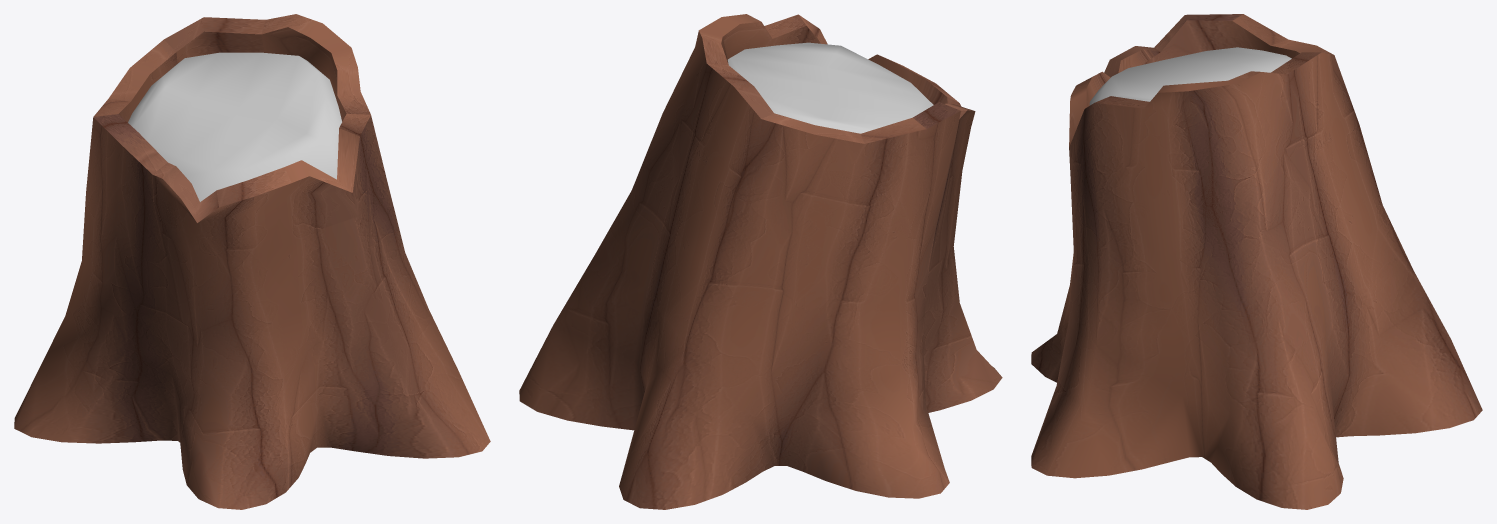
The model's file is Tree_Bark_2.gltf.
The picture shows the model from 3 angles, left to right: view 1: azimuth 30°, elevation 25°; view 2: azimuth 150°, elevation 25°; view 3: azimuth 270°, elevation 25°; orthographic projection. The views are drawn at different scales.
Parts seen in each view (by area): view 1: Tree_Bark_2; view 2: Tree_Bark_2; view 3: Tree_Bark_2.
Boxes of the visible parts, x1,y1,x2,y2 form: Tree_Bark_2: [14, 14, 490, 509]; Tree_Bark_2: [519, 14, 1002, 509]; Tree_Bark_2: [1031, 14, 1482, 509].
Size of what is drawn, in the model's own units: 1.42 by 1.2 by 1.35.
